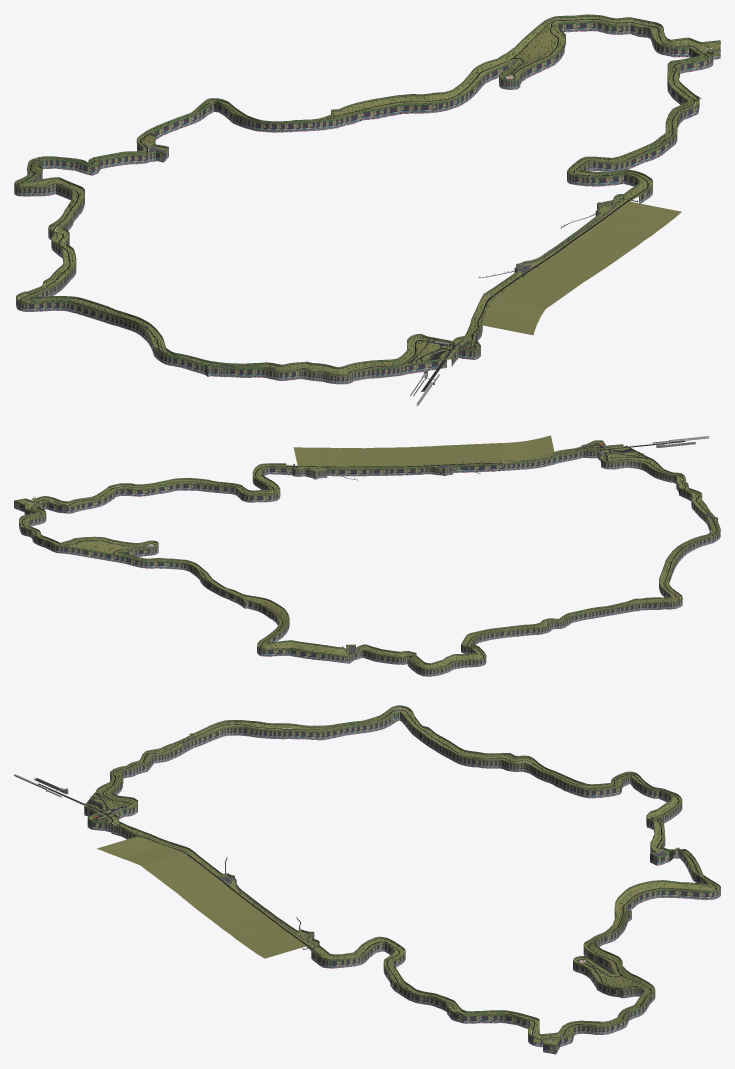
File: nurburgring.glb
The picture shows the model from 3 angles, top to bottom: view 1: azimuth 30°, elevation 25°; view 2: azimuth 150°, elevation 25°; view 3: azimuth 270°, elevation 25°; orthographic projection. The views are drawn at different scales.
Parts seen in each view (by area): view 1: Object_8, Object_5, Object_7, Object_3, Object_6; view 2: Object_8, Object_5, Object_3, Object_7, Object_6; view 3: Object_8, Object_5, Object_3, Object_7, Object_6.
Boxes of the visible parts, left/top/right/bottom form: Object_8: left=14, top=14, right=720, bottom=384; Object_5: left=14, top=16, right=720, bottom=376; Object_7: left=16, top=15, right=719, bottom=373; Object_3: left=16, top=19, right=712, bottom=406; Object_6: left=16, top=15, right=720, bottom=374; Object_8: left=14, top=440, right=720, bottom=676; Object_5: left=17, top=435, right=720, bottom=670; Object_3: left=22, top=436, right=717, bottom=668; Object_7: left=19, top=440, right=718, bottom=668; Object_6: left=17, top=441, right=718, bottom=668; Object_8: left=84, top=705, right=720, bottom=1054; Object_5: left=84, top=707, right=719, bottom=1045; Object_3: left=14, top=709, right=716, bottom=1042; Object_7: left=83, top=706, right=719, bottom=1044; Object_6: left=88, top=706, right=717, bottom=1044.
Size of the model in its own units: 6341 by 386 by 5551.
3 materials, 3 textured.
